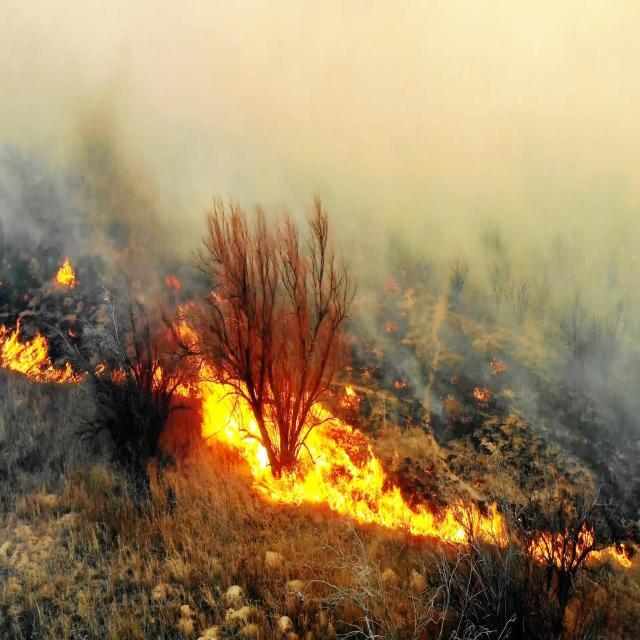Fire: (215, 316, 386, 520), (94, 297, 211, 437), (528, 496, 633, 557), (5, 337, 64, 381), (56, 259, 78, 289)
Smoke: (9, 0, 640, 309), (390, 314, 640, 490)
